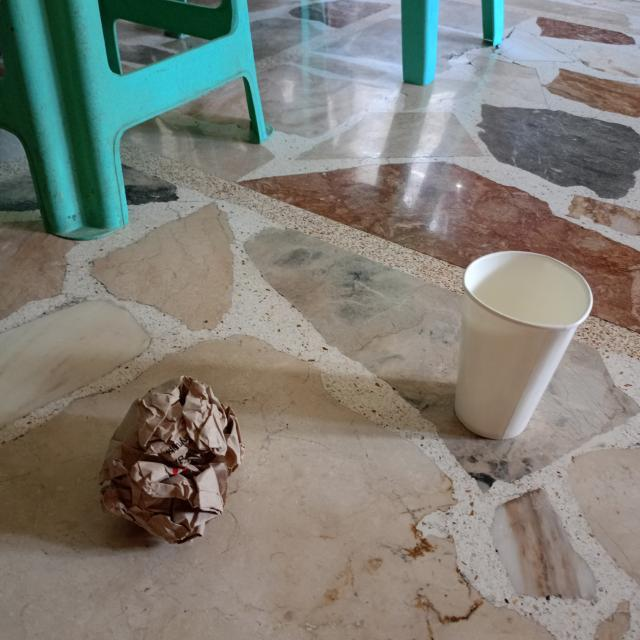recyclable waste: (72, 362, 258, 560), (442, 245, 600, 445)
